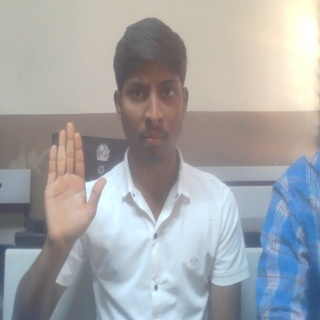Face: (109, 16, 191, 170)
Hello: (41, 119, 108, 246)
